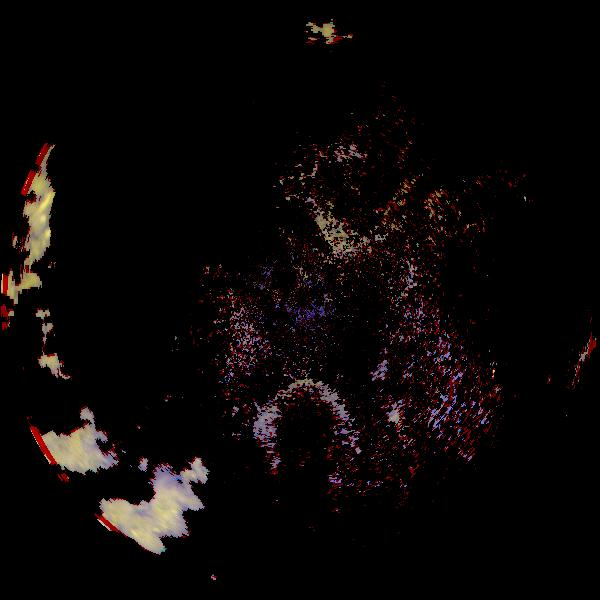roost: (242, 366, 374, 498)
